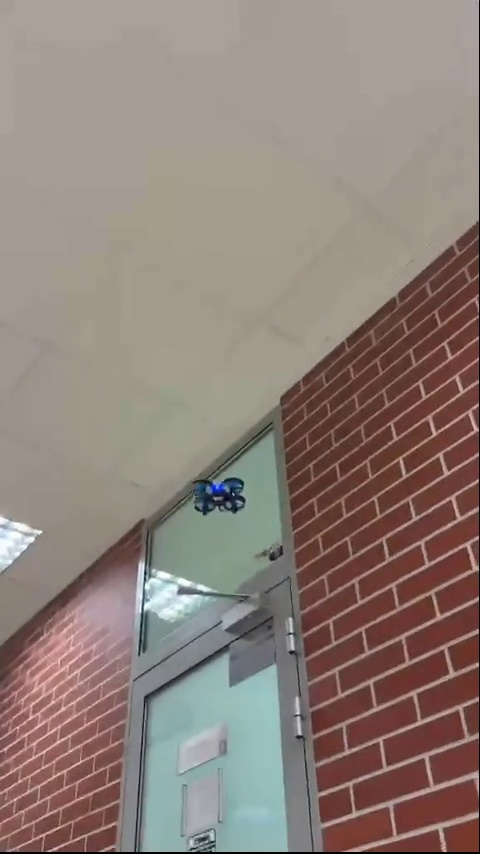drone: (192, 476, 248, 521)
